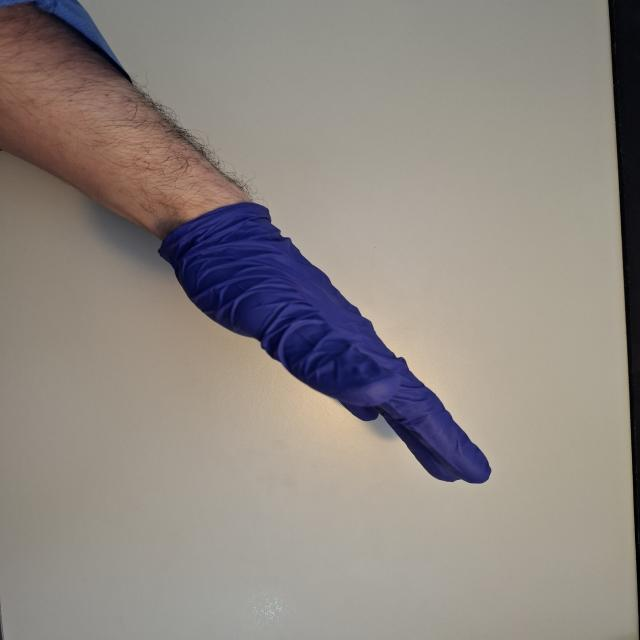glove_on: (153, 193, 496, 487)
